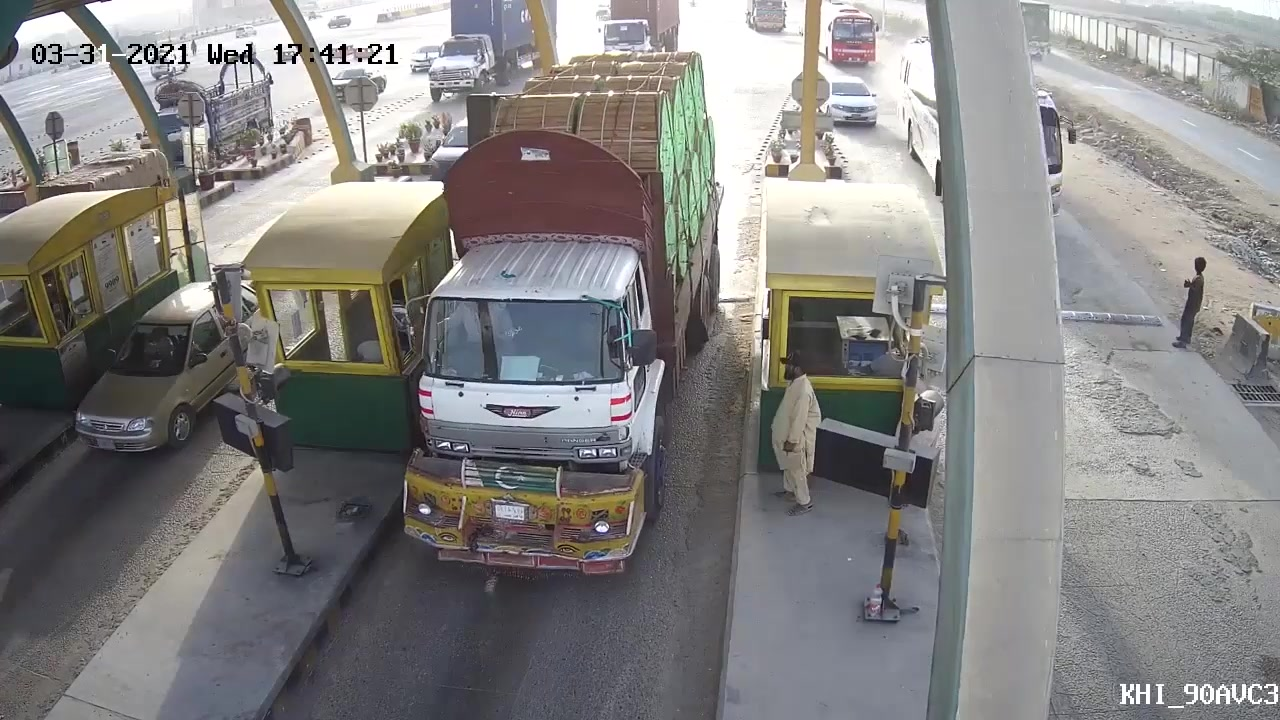F5: (404, 36, 727, 578)
